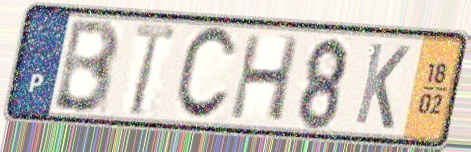8: (295, 33, 351, 132)
B: (49, 17, 123, 117)
C: (170, 24, 239, 125)
H: (226, 31, 303, 124)
K: (351, 39, 413, 133)
T: (126, 20, 178, 119)
